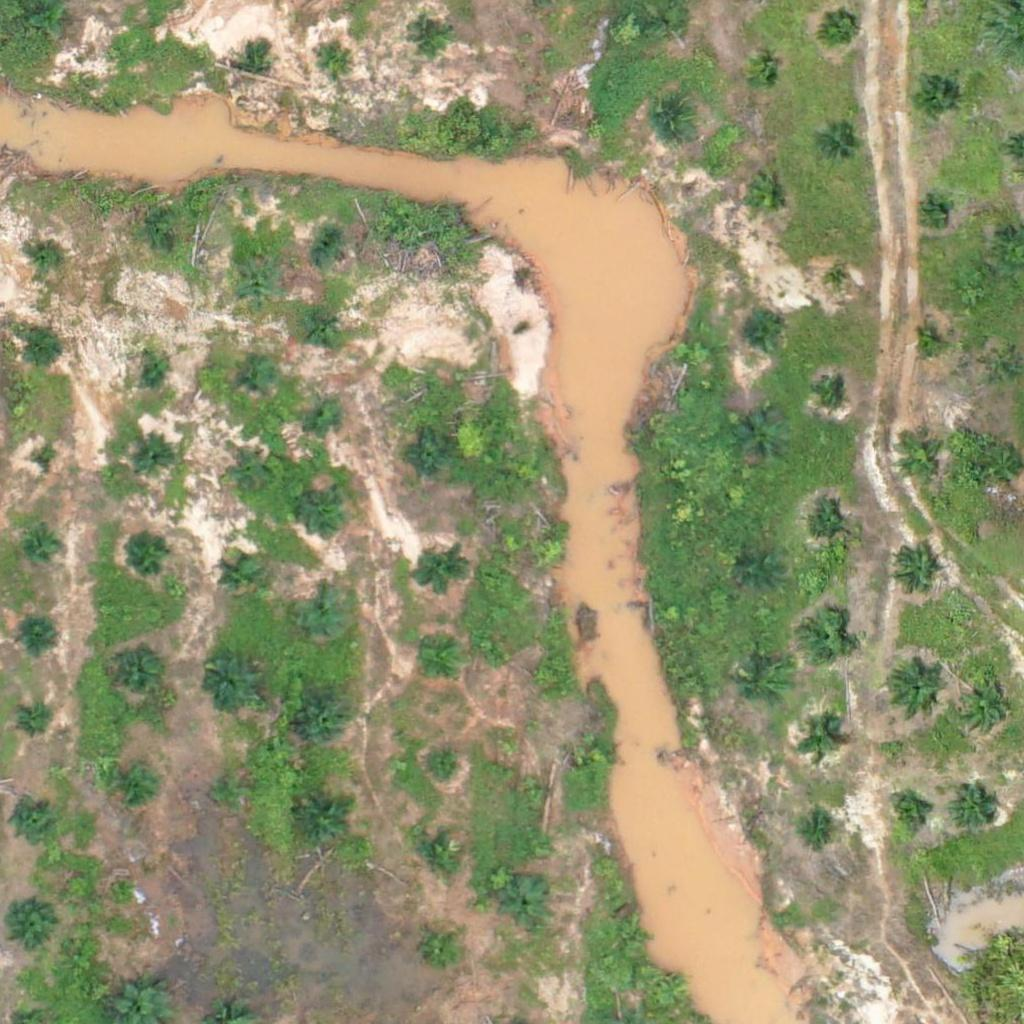Kelapa_Sawit: (197, 650, 260, 713), (294, 586, 357, 649), (952, 675, 1015, 738), (886, 657, 948, 720), (301, 693, 351, 744), (300, 796, 350, 847), (6, 898, 56, 949), (411, 828, 461, 879), (895, 434, 945, 485), (741, 173, 791, 224), (113, 647, 163, 698), (125, 528, 175, 579), (302, 484, 352, 534), (501, 880, 551, 930), (803, 505, 853, 555), (801, 614, 851, 664), (890, 547, 940, 597), (950, 783, 1000, 833), (415, 548, 465, 598), (413, 638, 463, 688), (909, 69, 959, 119), (737, 413, 787, 463), (406, 433, 456, 483), (739, 664, 789, 714), (610, 918, 648, 956), (422, 929, 460, 967), (800, 719, 838, 757), (801, 810, 839, 848), (888, 793, 926, 831), (514, 770, 552, 808), (524, 657, 562, 695), (530, 532, 568, 570), (741, 314, 779, 352), (28, 236, 66, 274), (22, 622, 60, 660), (16, 702, 54, 740), (140, 350, 178, 388), (308, 392, 346, 430), (308, 305, 346, 343), (307, 230, 345, 268), (116, 766, 154, 804), (578, 732, 615, 770), (985, 351, 1023, 388), (744, 58, 782, 95), (741, 552, 778, 590), (410, 21, 447, 59), (651, 4, 689, 41), (824, 6, 861, 44), (314, 45, 351, 83), (18, 331, 56, 368), (27, 447, 65, 484), (24, 531, 62, 568), (136, 434, 174, 471), (151, 230, 188, 268), (236, 267, 273, 305), (241, 359, 278, 397), (231, 455, 268, 493), (212, 772, 249, 810), (13, 798, 50, 836), (424, 751, 461, 788), (820, 130, 857, 167), (652, 102, 689, 139), (222, 559, 259, 596), (237, 51, 262, 77), (921, 200, 946, 225), (914, 330, 939, 355), (826, 269, 851, 294), (820, 381, 845, 406)
